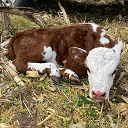vaca: (4, 18, 127, 104)
